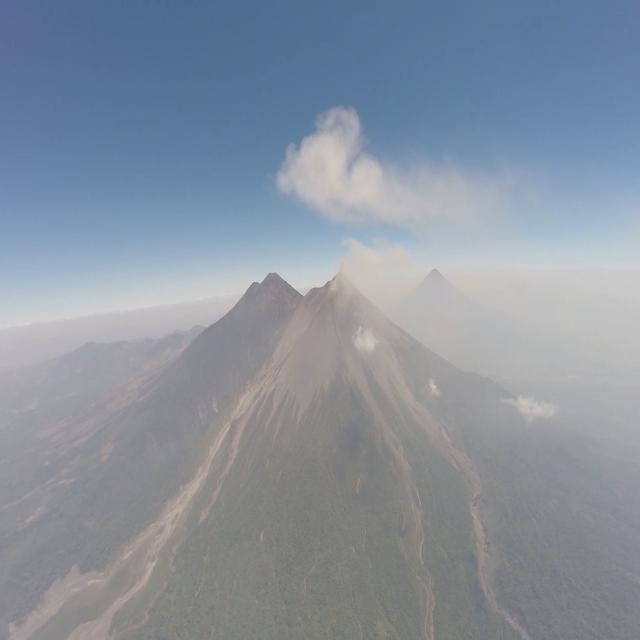Plume: (274, 96, 499, 248), (332, 232, 426, 346)
Summit: (321, 266, 362, 294)
